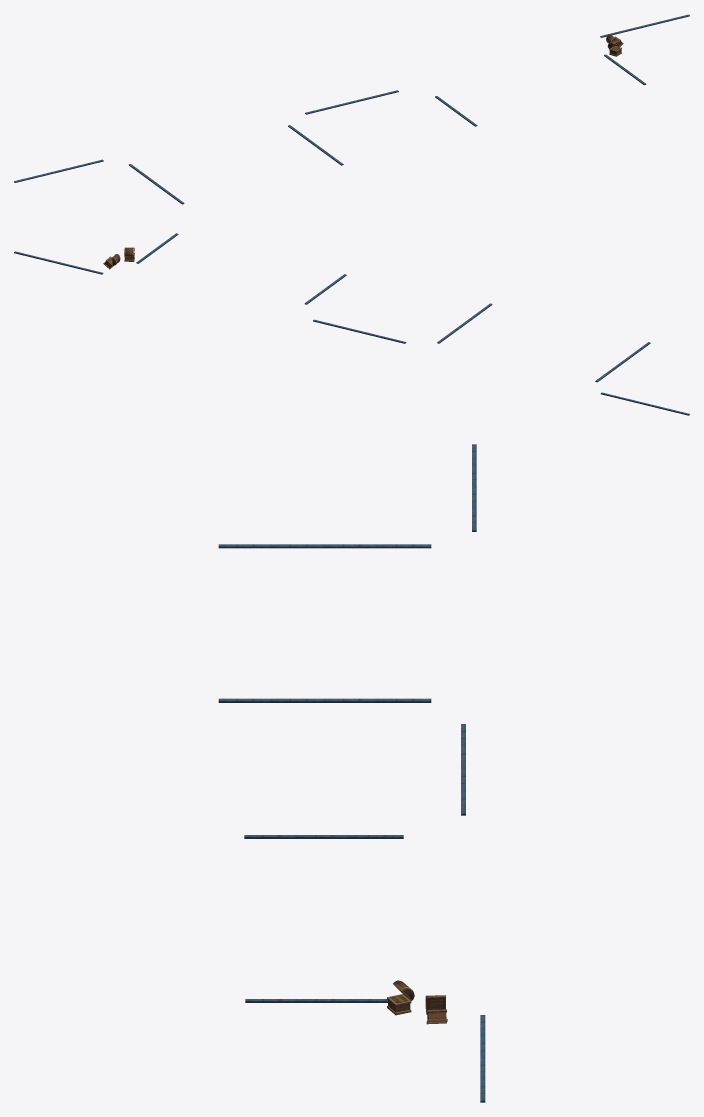
Rendered from xiaowujian_group6.fbx.
3 views of the same model, one above another, from view 1: azimuth 30°, elevation 25°; view 2: azimuth 150°, elevation 25°; view 3: azimuth 270°, elevation 25° (orthographic). The views are drawn at different scales.
Visible parts, largest first — view 1: xiaowujian_group6; view 2: xiaowujian_group6; view 3: xiaowujian_group6.
Boxes of the visible parts, x1,y1,x2,y2 form: xiaowujian_group6: (14,14,689,204); xiaowujian_group6: (14,233,689,415); xiaowujian_group6: (218,444,485,1102).
Size of the model in its own units: 10590 by 234 by 1817.
Materials: 1 (1 with a texture image).
